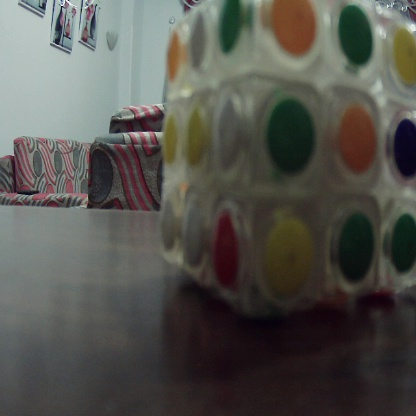Rubix Cube: (166, 3, 415, 315)
